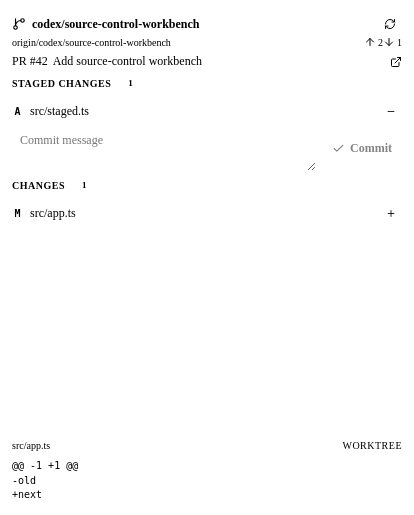
it: SourceControlWorkbench › commits staged changes and clears the message
Type "Ship the workbench" into the text box labelled "Commit message" at (164, 148), box [12,125,316,171]
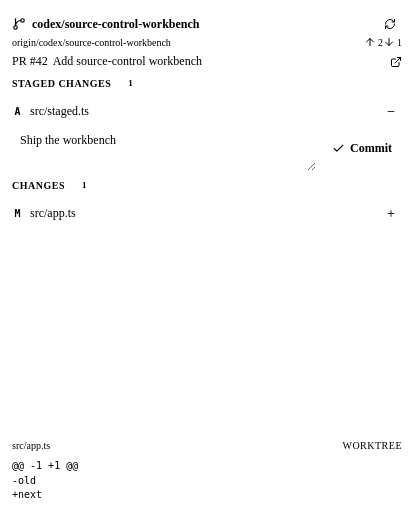
Click the button "Commit" at (362, 148), box [322,125,402,171]
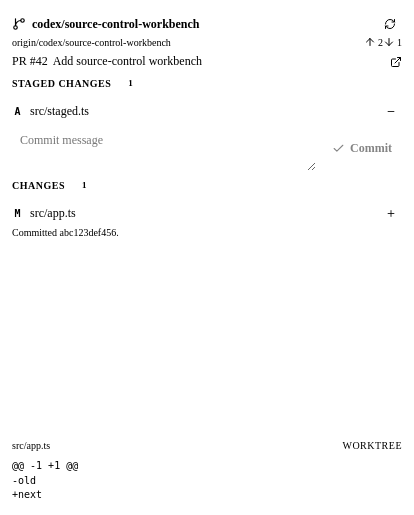
Now the text box labelled "Commit message" is empty, box [12,125,316,171]
Now the text "Committed abc123def456." is shown, box [12,227,119,238]
